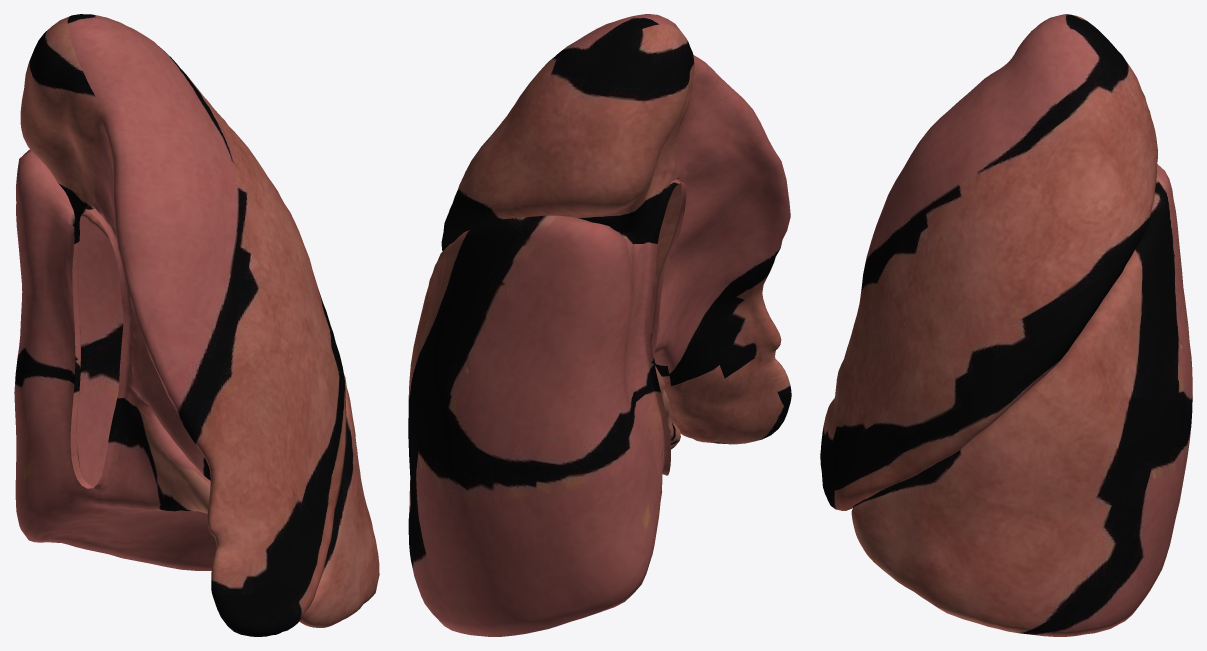
File: Respiratory.Lungs.Superior_Left.obj
3 views of the same model, side by side, from view 1: azimuth 30°, elevation 25°; view 2: azimuth 150°, elevation 25°; view 3: azimuth 270°, elevation 25° (orthographic). The views are drawn at different scales.
Visible parts, largest first — view 1: Respiratory:Lungs:Superior_Left_Lungs.001; view 2: Respiratory:Lungs:Superior_Left_Lungs.001; view 3: Respiratory:Lungs:Superior_Left_Lungs.001.
Part boxes in pixels (bbox=[...]): Respiratory:Lungs:Superior_Left_Lungs.001: bbox=[14, 14, 379, 636]; Respiratory:Lungs:Superior_Left_Lungs.001: bbox=[408, 14, 791, 636]; Respiratory:Lungs:Superior_Left_Lungs.001: bbox=[820, 14, 1192, 636].
Size of the model in its own units: 0.5912 by 1.22 by 0.7705.
